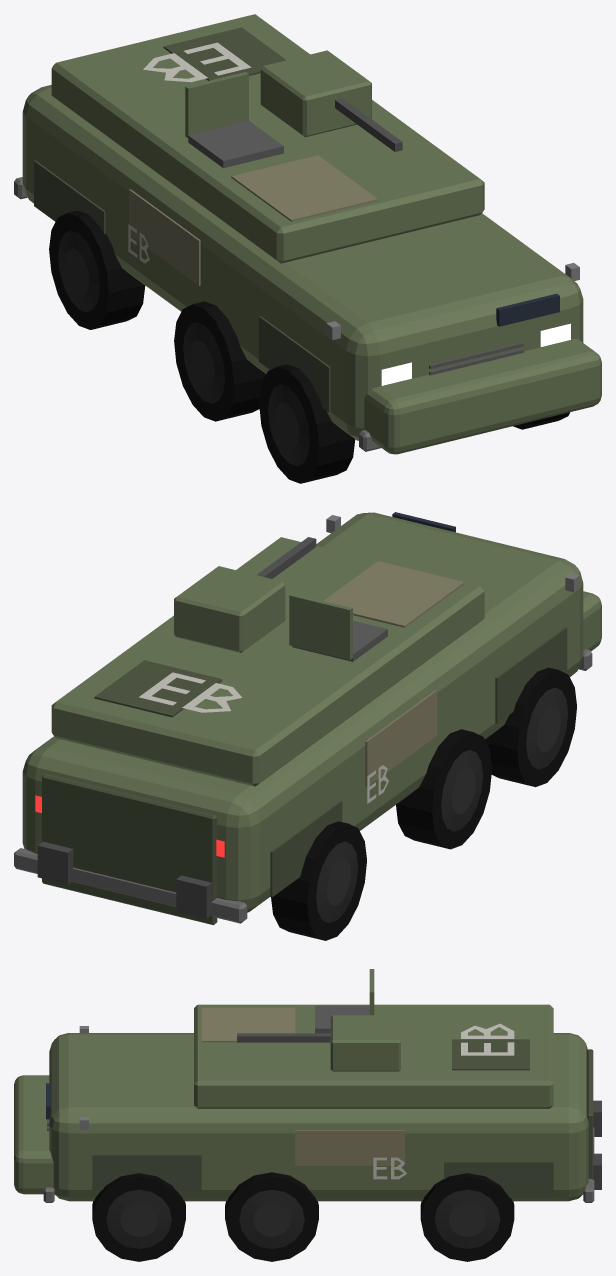
Rendered from anfibio.glb.
The picture shows the model from 3 angles, top to bottom: view 1: azimuth 30°, elevation 25°; view 2: azimuth 150°, elevation 25°; view 3: azimuth 270°, elevation 25°; orthographic projection. The views are drawn at different scales.
Parts seen in each view (by area): view 1: Body, WheelRL, WheelFL, WheelML; view 2: Body, WheelML, WheelRL, WheelFL; view 3: Body, WheelMR, WheelRR, WheelFR.
Boxes of the visible parts, left/top/right/bottom form: Body: left=14, top=14, right=601, bottom=454; WheelRL: left=49, top=210, right=145, bottom=329; WheelFL: left=259, top=364, right=355, bottom=483; WheelML: left=174, top=301, right=266, bottom=421; Body: left=14, top=512, right=601, bottom=924; WheelML: left=396, top=729, right=491, bottom=849; WheelRL: left=271, top=821, right=366, bottom=940; WheelFL: left=485, top=667, right=576, bottom=787; Body: left=14, top=969, right=601, bottom=1202; WheelMR: left=225, top=1172, right=318, bottom=1261; WheelRR: left=420, top=1173, right=514, bottom=1261; WheelFR: left=92, top=1173, right=185, bottom=1261.
Size of the model in its own units: 3.02 by 3 by 7.52.
